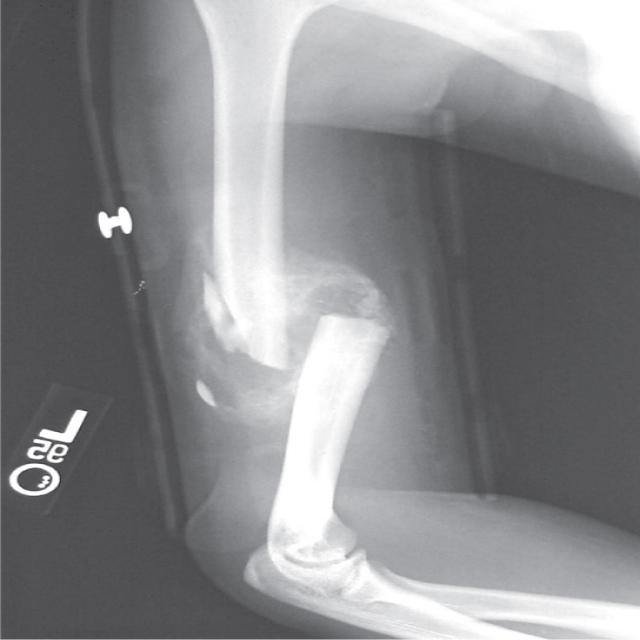Broken: (253, 316, 401, 555), (208, 11, 301, 356)
